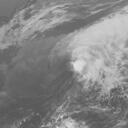cyclone: (50, 37, 109, 90)
